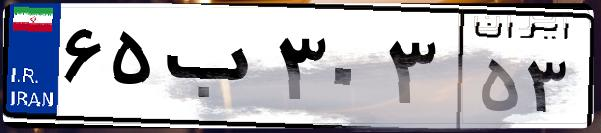0: (330, 28, 385, 110)
3: (270, 28, 330, 110), (385, 28, 445, 110), (525, 38, 570, 115)
5: (475, 38, 525, 113), (110, 28, 158, 98)
6: (57, 26, 110, 100)
ب: (158, 20, 270, 120)
